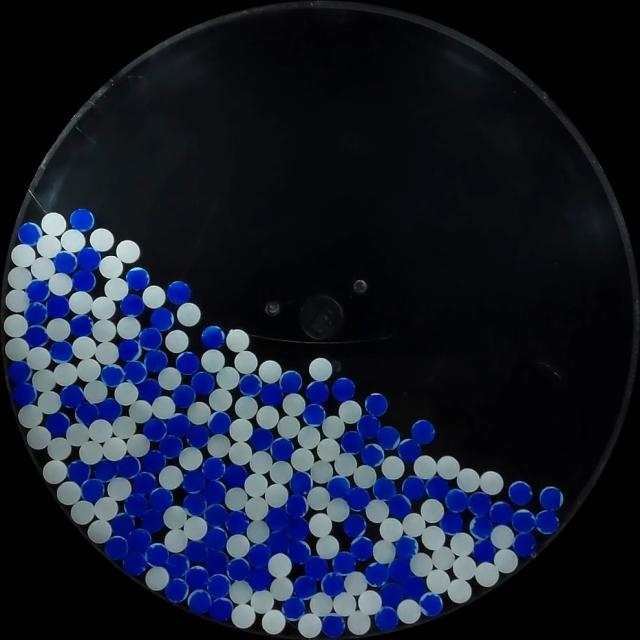pmmma-azul: (410, 418, 436, 444), (287, 540, 313, 566), (204, 504, 228, 531), (208, 596, 233, 621), (356, 414, 381, 439), (466, 491, 491, 516), (122, 551, 147, 576), (534, 509, 559, 534), (379, 582, 404, 607), (67, 459, 91, 485), (424, 474, 448, 500), (402, 575, 426, 601), (248, 543, 272, 568), (137, 378, 162, 402), (349, 536, 374, 560), (444, 488, 468, 513), (202, 456, 226, 481), (488, 501, 513, 525), (104, 535, 129, 559), (270, 436, 294, 461), (142, 449, 166, 474), (97, 398, 121, 423), (124, 492, 148, 517), (223, 463, 247, 488), (387, 493, 411, 518), (207, 573, 231, 598), (149, 487, 173, 512), (164, 578, 189, 602), (167, 413, 191, 438), (397, 438, 422, 462), (510, 509, 535, 533), (127, 528, 151, 553), (306, 380, 330, 405), (45, 412, 70, 436), (281, 596, 306, 620), (187, 589, 211, 614), (418, 592, 443, 616), (60, 383, 84, 408), (472, 538, 496, 563), (186, 423, 210, 448), (512, 532, 536, 557), (70, 208, 95, 232), (12, 382, 37, 406), (123, 360, 148, 384), (469, 514, 493, 539), (203, 478, 226, 504), (142, 508, 165, 534), (146, 542, 170, 566), (365, 562, 389, 586), (225, 510, 249, 534), (402, 476, 426, 500), (172, 384, 196, 408), (332, 377, 356, 401), (183, 492, 207, 516), (144, 348, 168, 372), (249, 427, 273, 451), (285, 516, 309, 540), (184, 566, 208, 590), (182, 469, 206, 493), (304, 556, 328, 580), (538, 486, 562, 510), (204, 526, 228, 550), (150, 307, 174, 331), (176, 351, 200, 375), (342, 514, 366, 538), (191, 371, 215, 395), (76, 401, 100, 425), (364, 392, 388, 416), (46, 294, 70, 318), (72, 268, 96, 292), (133, 471, 157, 495), (372, 477, 396, 501), (80, 479, 104, 503), (374, 606, 398, 630), (376, 426, 400, 450), (24, 324, 48, 348), (508, 481, 532, 505), (26, 279, 50, 303), (167, 280, 191, 304), (8, 360, 32, 384), (394, 535, 418, 559), (77, 247, 102, 270), (25, 301, 48, 326), (116, 455, 140, 478), (144, 418, 168, 441), (208, 411, 231, 435), (227, 557, 250, 581), (361, 443, 385, 466), (321, 572, 344, 596), (341, 430, 364, 454), (126, 267, 150, 290), (94, 459, 118, 482), (346, 486, 369, 510), (117, 338, 141, 361), (302, 402, 325, 426), (322, 614, 345, 638), (70, 314, 94, 337), (343, 514, 366, 538), (18, 222, 42, 245), (110, 513, 134, 536), (120, 294, 145, 316), (101, 364, 124, 387), (159, 434, 182, 457), (266, 507, 289, 530), (268, 530, 291, 553), (248, 568, 271, 591), (280, 370, 302, 394), (290, 471, 312, 495), (285, 494, 307, 518), (332, 552, 356, 574), (50, 340, 74, 362), (238, 374, 262, 396), (201, 326, 225, 348), (139, 327, 163, 349), (206, 551, 230, 573), (327, 476, 350, 498), (440, 512, 463, 534), (260, 382, 282, 405), (293, 576, 316, 598), (54, 251, 77, 273), (167, 555, 190, 577), (184, 541, 207, 562), (389, 559, 411, 580)
